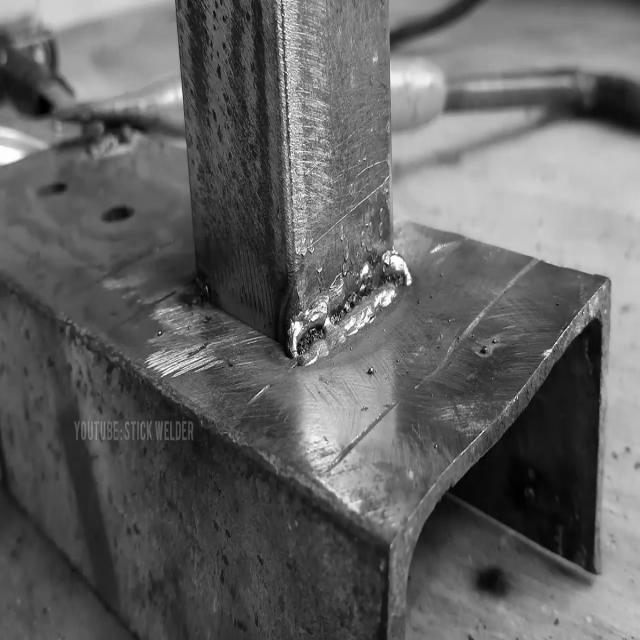Bad Weld: (288, 254, 414, 366)
Defect: (328, 290, 364, 324), (296, 321, 325, 355)
